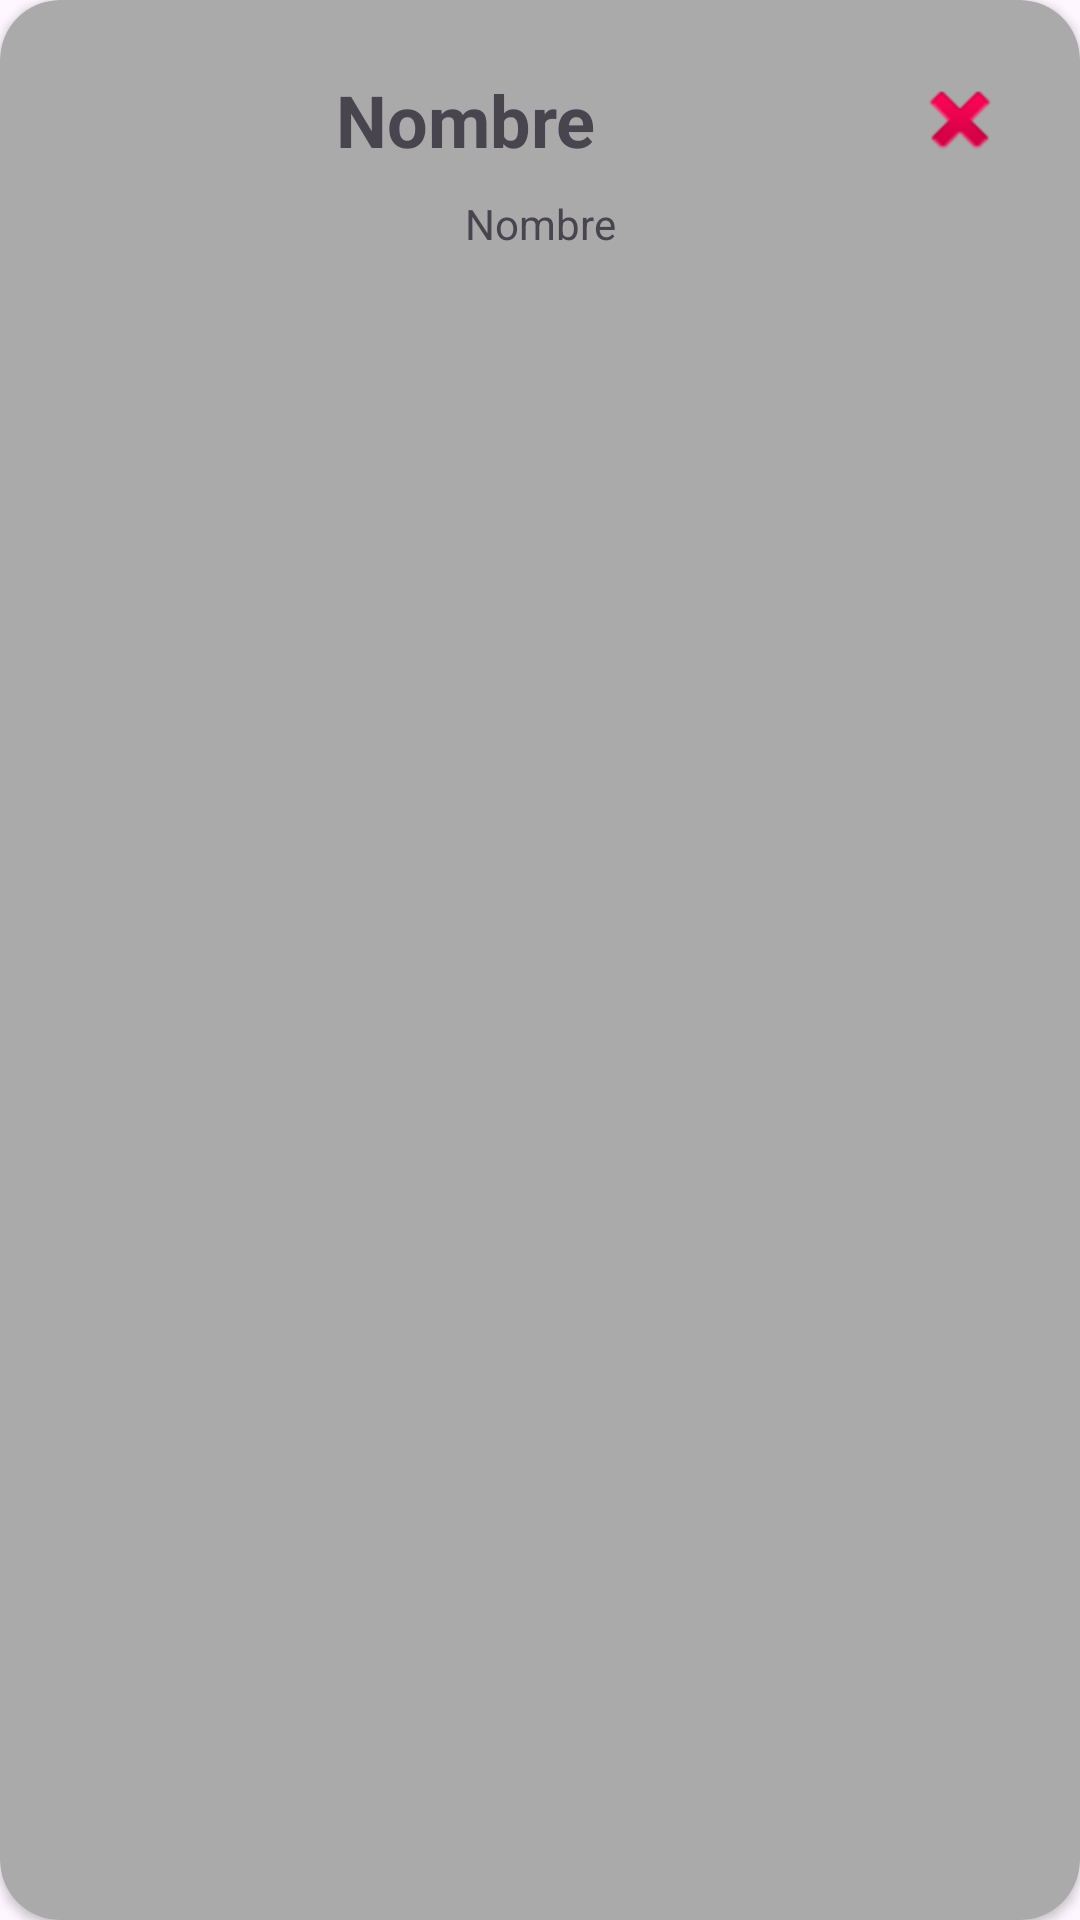

Locate icon controls on the screen. Image size 1080 × 1920, boxes as (x1, y1, x2, y2).
delete: (930, 91, 990, 149)
